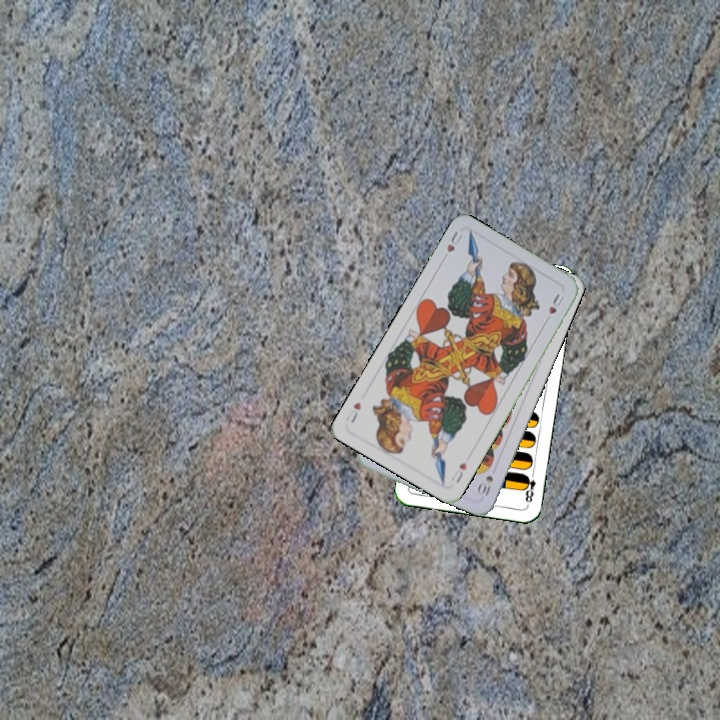E8: (520, 467, 538, 505)
HU: (447, 458, 469, 486), (443, 227, 465, 255)
S10: (474, 471, 496, 498)
